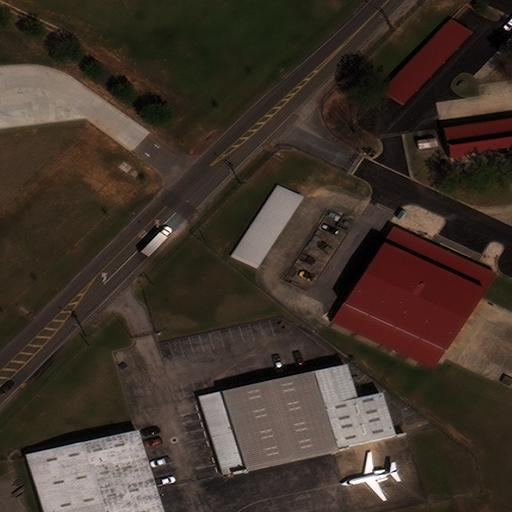Medium Civil Transport: (341, 451, 399, 501)
